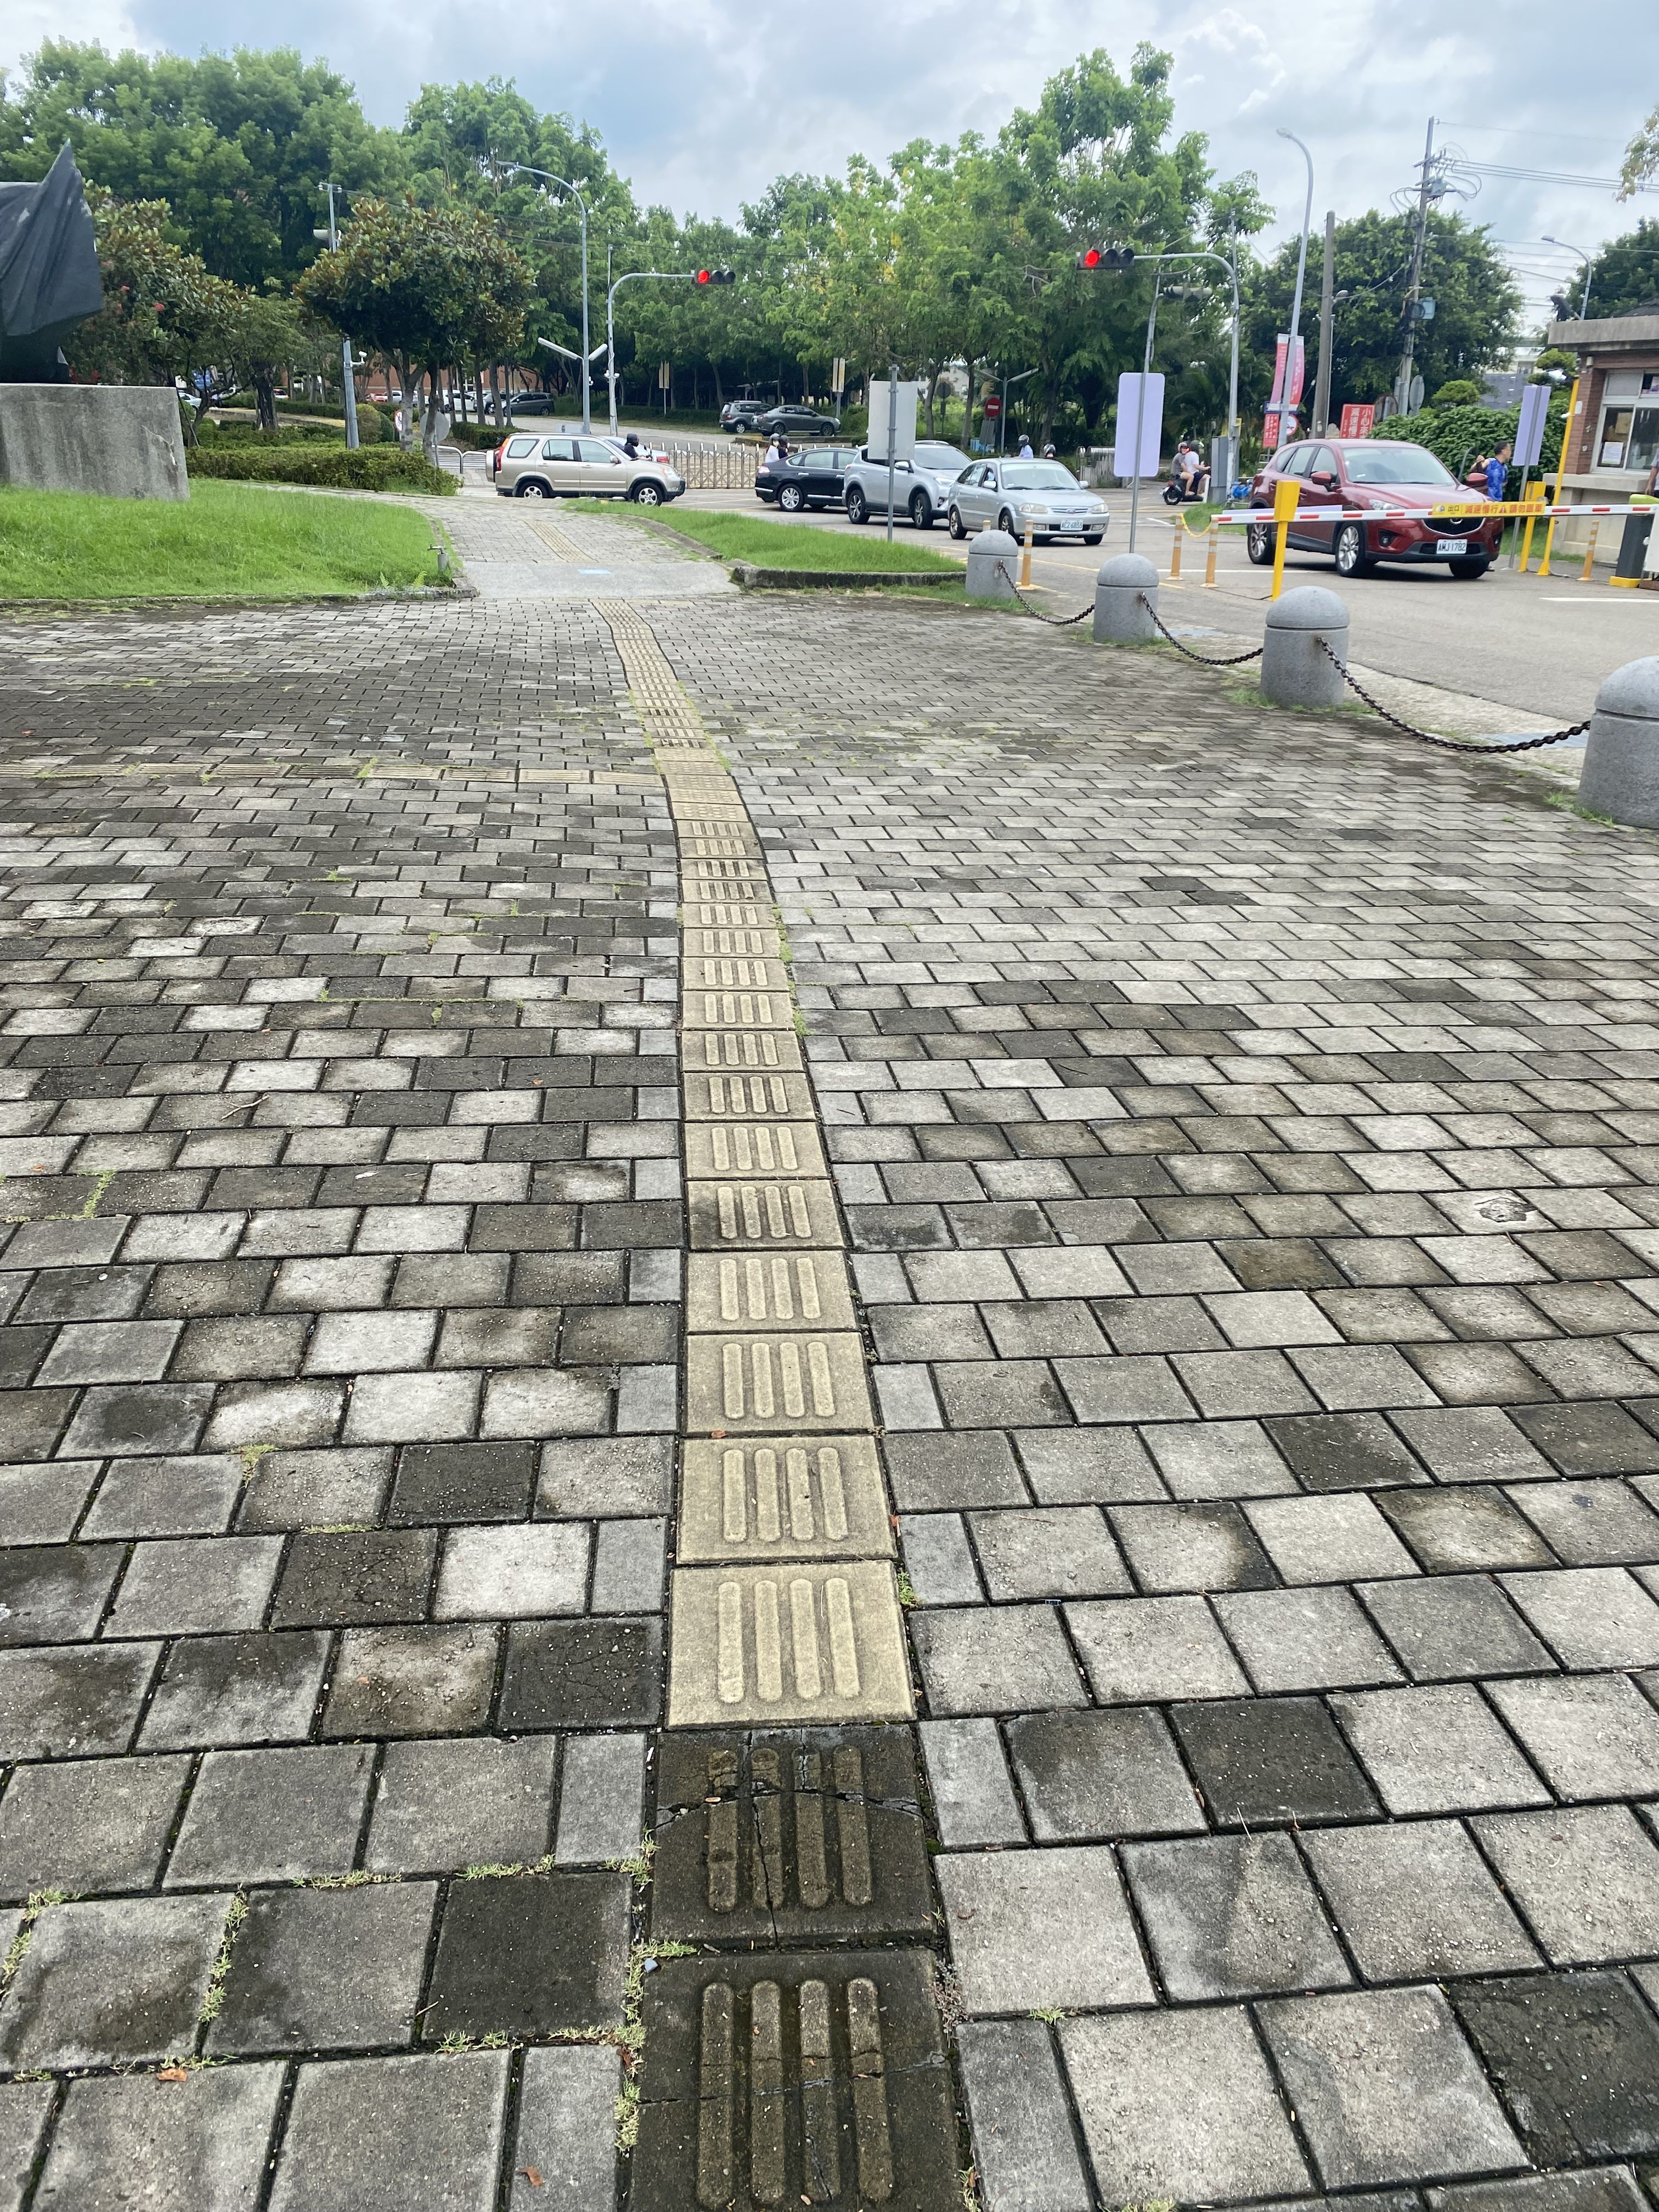sidewalk: (5, 475, 1659, 2212)
